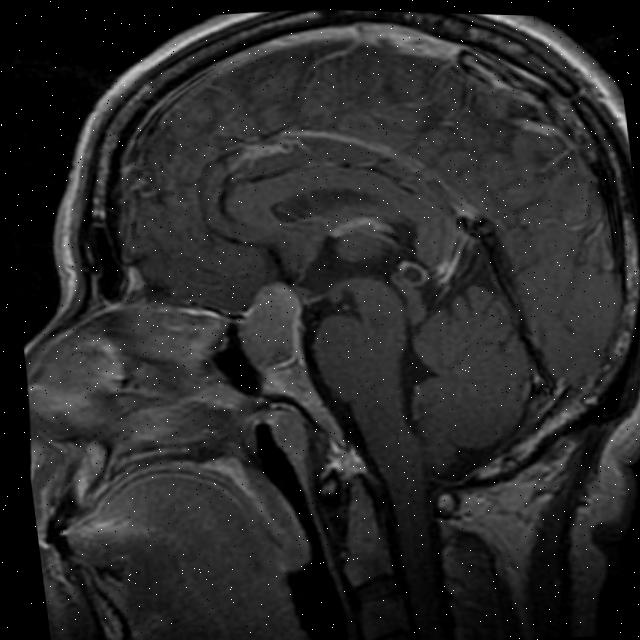Pituitary: (231, 277, 308, 373)
